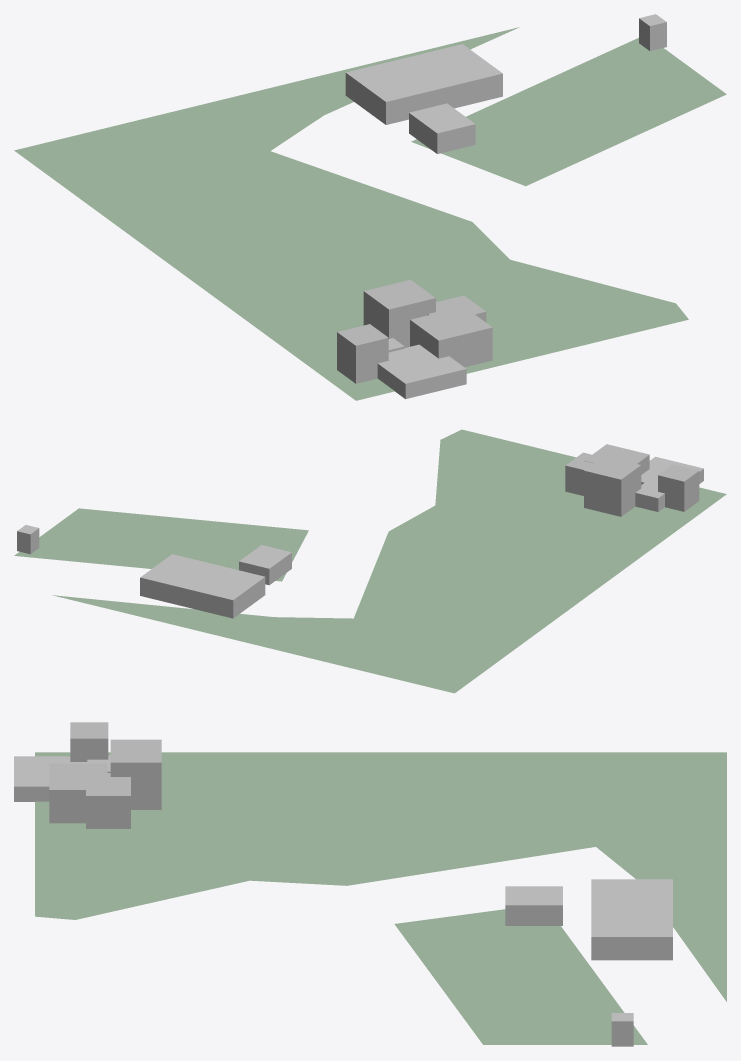
Rendered from 106_108_mid.glb.
3 renders of one model, top to bottom at view 1: azimuth 30°, elevation 25°; view 2: azimuth 150°, elevation 25°; view 3: azimuth 270°, elevation 25°, orthographic. The views are drawn at different scales.
Bounding box in the file's own units: 503 × 38 × 515.
